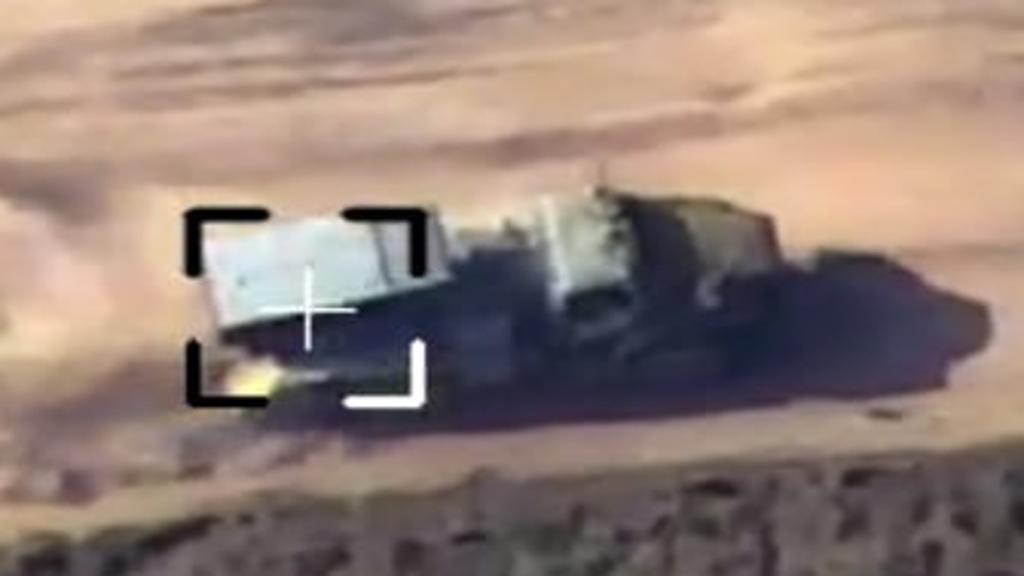MLRS: (172, 159, 790, 404)
